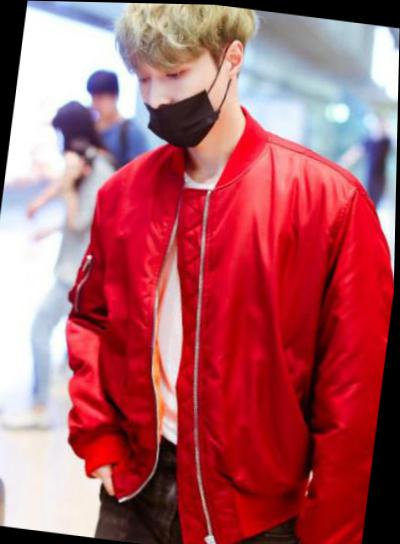WRONG: (130, 42, 228, 152)
